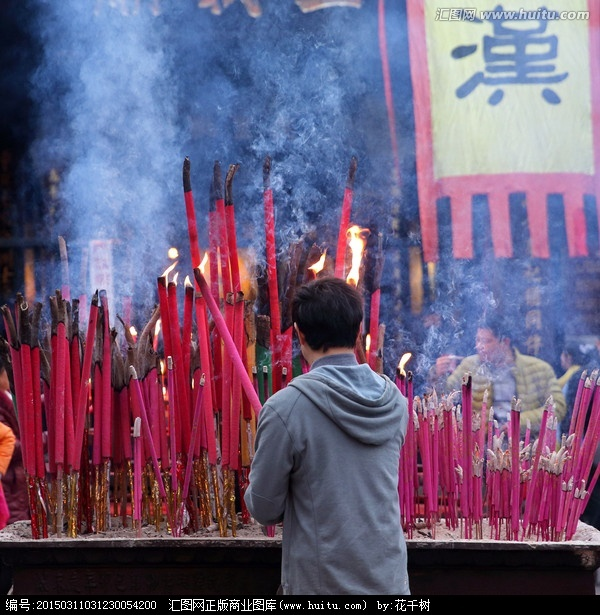fire: (314, 223, 369, 285), (159, 243, 206, 280), (340, 225, 367, 284), (308, 248, 327, 273)
